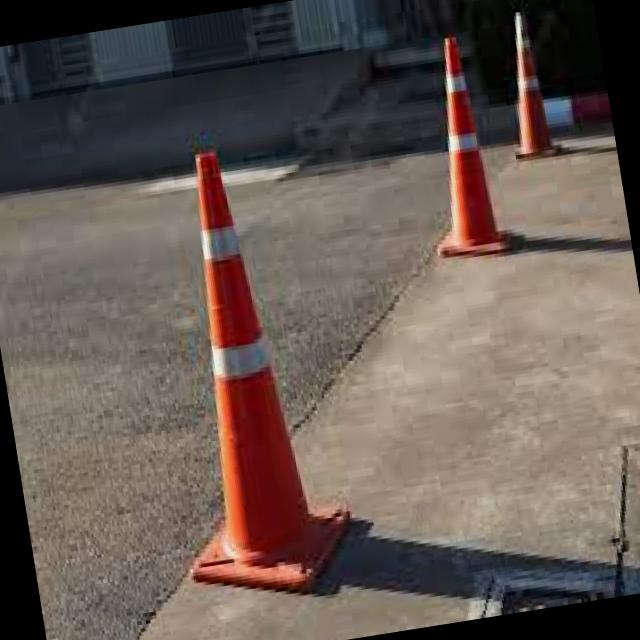cone: (125, 122, 376, 614), (406, 26, 524, 260), (488, 0, 572, 163)
